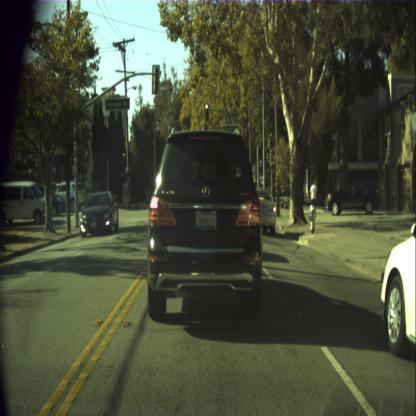Red: (204, 101, 209, 121)
